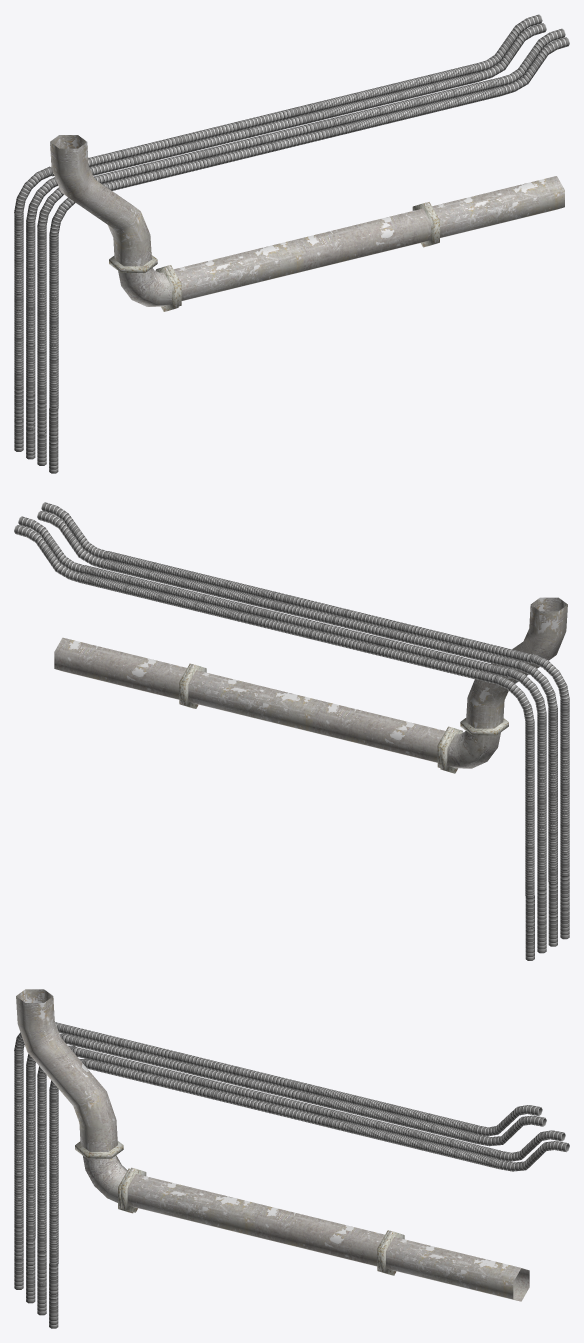
The model's file is WallScope4_less_pipe.obj.
3 views of the same model, one above another, from view 1: azimuth 30°, elevation 25°; view 2: azimuth 150°, elevation 25°; view 3: azimuth 330°, elevation 25° (orthographic).
Visible parts, largest first — view 1: PipelSet wall_4_ polySurface641 PipeSet1, group7 MetalPipes polySurface685, group7 MetalPipes polySurface686, group7 MetalPipes polySurface677, ribbedPipes2 PipelSet wall_4_ pCylinder5, ribbedPipes2 PipelSet wall_4_ pCylinder6, PipelSet wall_4_ ribbedPipes pCylinder6, PipelSet wall_4_ ribbedPipes pCylinder5, polySurface644 group7 MetalPipes, PipelSet wall_4_ ribbedPipes pCylinder10, ribbedPipes2 PipelSet wall_4_ pCylinder10, ribbedPipes2 PipelSet wall_4_ pCylinder9 (+10 smaller); view 2: group7 MetalPipes polySurface685, group7 MetalPipes polySurface677, group7 MetalPipes polySurface686, PipelSet wall_4_ polySurface641 PipeSet1, PipelSet wall_4_ ribbedPipes pCylinder5, ribbedPipes2 PipelSet wall_4_ pCylinder5, PipelSet wall_4_ ribbedPipes pCylinder6, ribbedPipes2 PipelSet wall_4_ pCylinder6, polySurface644 group7 MetalPipes, ribbedPipes2 PipelSet wall_4_ pCylinder9, PipelSet wall_4_ ribbedPipes pCylinder9, PipelSet wall_4_ ribbedPipes pCylinder10 (+13 smaller); view 3: PipelSet wall_4_ polySurface641 PipeSet1, group7 MetalPipes polySurface686, group7 MetalPipes polySurface677, group7 MetalPipes polySurface685, ribbedPipes2 PipelSet wall_4_ pCylinder5, ribbedPipes2 PipelSet wall_4_ pCylinder6, PipelSet wall_4_ ribbedPipes pCylinder6, PipelSet wall_4_ ribbedPipes pCylinder5, PipelSet wall_4_ ribbedPipes pCylinder9, ribbedPipes2 PipelSet wall_4_ pCylinder9, PipelSet wall_4_ ribbedPipes pCylinder10, ribbedPipes2 PipelSet wall_4_ pCylinder10 (+9 smaller).
Boxes of the visible parts, left/top/right/bottom form: PipelSet wall_4_ polySurface641 PipeSet1: left=50, top=135, right=157, bottom=272; group7 MetalPipes polySurface685: left=296, top=203, right=437, bottom=272; group7 MetalPipes polySurface686: left=425, top=176, right=564, bottom=245; group7 MetalPipes polySurface677: left=156, top=239, right=305, bottom=306; ribbedPipes2 PipelSet wall_4_ pCylinder5: left=93, top=118, right=335, bottom=183; ribbedPipes2 PipelSet wall_4_ pCylinder6: left=102, top=125, right=347, bottom=190; PipelSet wall_4_ ribbedPipes pCylinder6: left=89, top=111, right=324, bottom=175; PipelSet wall_4_ ribbedPipes pCylinder5: left=52, top=104, right=312, bottom=176; polySurface644 group7 MetalPipes: left=118, top=267, right=178, bottom=311; PipelSet wall_4_ ribbedPipes pCylinder10: left=14, top=212, right=23, bottom=388; ribbedPipes2 PipelSet wall_4_ pCylinder10: left=37, top=227, right=46, bottom=402; ribbedPipes2 PipelSet wall_4_ pCylinder9: left=49, top=234, right=58, bottom=410; group7 MetalPipes polySurface685: left=181, top=664, right=320, bottom=733; group7 MetalPipes polySurface677: left=312, top=700, right=462, bottom=767; group7 MetalPipes polySurface686: left=54, top=637, right=191, bottom=707; PipelSet wall_4_ polySurface641 PipeSet1: left=460, top=597, right=567, bottom=735; PipelSet wall_4_ ribbedPipes pCylinder5: left=271, top=591, right=532, bottom=663; ribbedPipes2 PipelSet wall_4_ pCylinder5: left=248, top=606, right=509, bottom=677; PipelSet wall_4_ ribbedPipes pCylinder6: left=259, top=598, right=521, bottom=670; ribbedPipes2 PipelSet wall_4_ pCylinder6: left=237, top=612, right=497, bottom=684; polySurface644 group7 MetalPipes: left=440, top=729, right=500, bottom=773; ribbedPipes2 PipelSet wall_4_ pCylinder9: left=525, top=722, right=534, bottom=897; PipelSet wall_4_ ribbedPipes pCylinder9: left=548, top=707, right=557, bottom=883; PipelSet wall_4_ ribbedPipes pCylinder10: left=560, top=700, right=569, bottom=875; PipelSet wall_4_ polySurface641 PipeSet1: left=16, top=989, right=123, bottom=1158; group7 MetalPipes polySurface686: left=379, top=1230, right=529, bottom=1301; group7 MetalPipes polySurface677: left=121, top=1167, right=260, bottom=1237; group7 MetalPipes polySurface685: left=252, top=1204, right=389, bottom=1273; ribbedPipes2 PipelSet wall_4_ pCylinder5: left=72, top=1047, right=333, bottom=1118; ribbedPipes2 PipelSet wall_4_ pCylinder6: left=84, top=1059, right=344, bottom=1130; PipelSet wall_4_ ribbedPipes pCylinder6: left=61, top=1034, right=322, bottom=1105; PipelSet wall_4_ ribbedPipes pCylinder5: left=55, top=1022, right=310, bottom=1093; PipelSet wall_4_ ribbedPipes pCylinder9: left=26, top=1064, right=35, bottom=1240; ribbedPipes2 PipelSet wall_4_ pCylinder9: left=49, top=1090, right=58, bottom=1265; PipelSet wall_4_ ribbedPipes pCylinder10: left=14, top=1051, right=23, bottom=1226; ribbedPipes2 PipelSet wall_4_ pCylinder10: left=37, top=1076, right=46, bottom=1251.
Bounding box in the file's own units: 17.06 × 10.12 × 1.69.
Materials: 1 (1 with a texture image).
